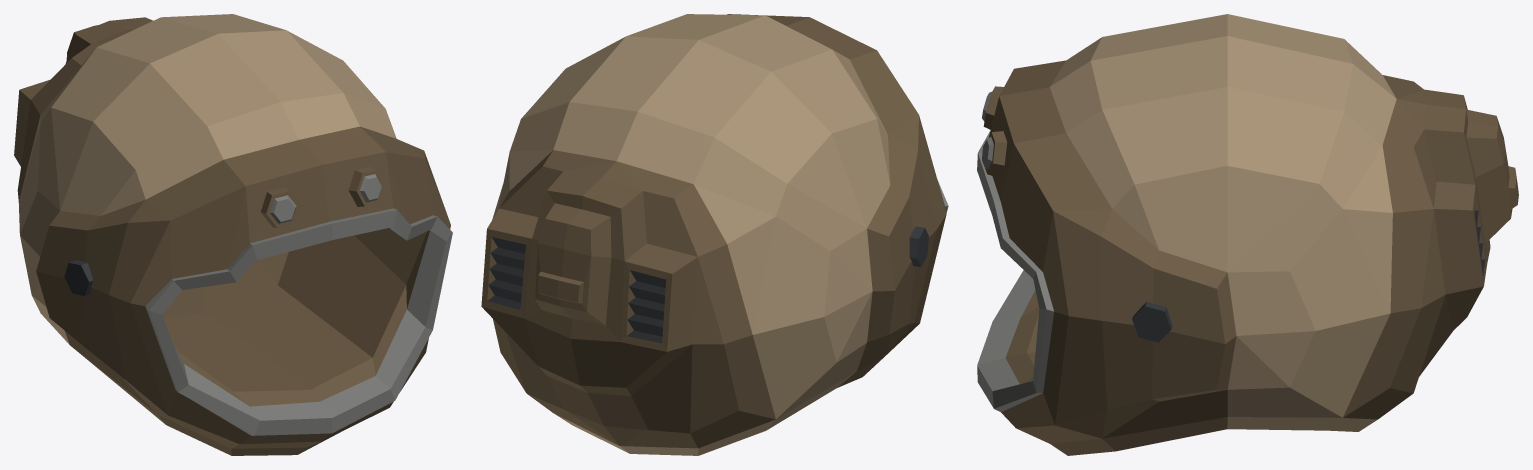
File: SM_Chr_Attach_Bombsuit_Helmet_01.fbx
3 views of the same model, side by side, from view 1: azimuth 30°, elevation 25°; view 2: azimuth 150°, elevation 25°; view 3: azimuth 270°, elevation 25° (orthographic). The views are drawn at different scales.
Visible parts, largest first — view 1: SM_Chr_Attach_Bombsuit_Helmet_01; view 2: SM_Chr_Attach_Bombsuit_Helmet_01; view 3: SM_Chr_Attach_Bombsuit_Helmet_01.
Boxes of the visible parts, x1,y1,x2,y2 form: SM_Chr_Attach_Bombsuit_Helmet_01: (14,14,452,455); SM_Chr_Attach_Bombsuit_Helmet_01: (481,14,948,455); SM_Chr_Attach_Bombsuit_Helmet_01: (977,14,1518,455).
Bounding box in the file's own units: 38.14 × 36.16 × 44.62.
